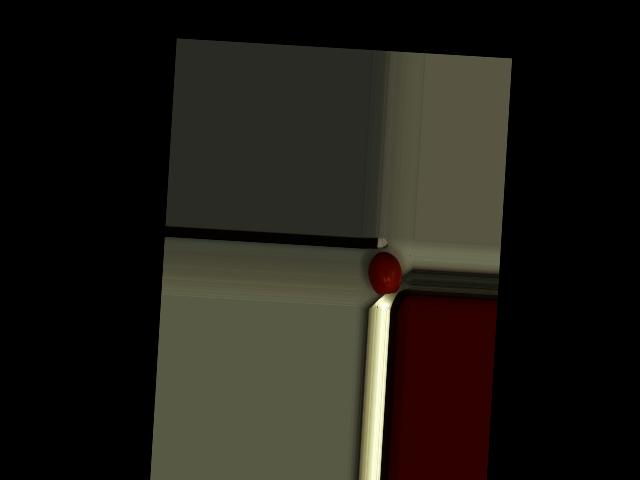tomato: (366, 251, 403, 295)
